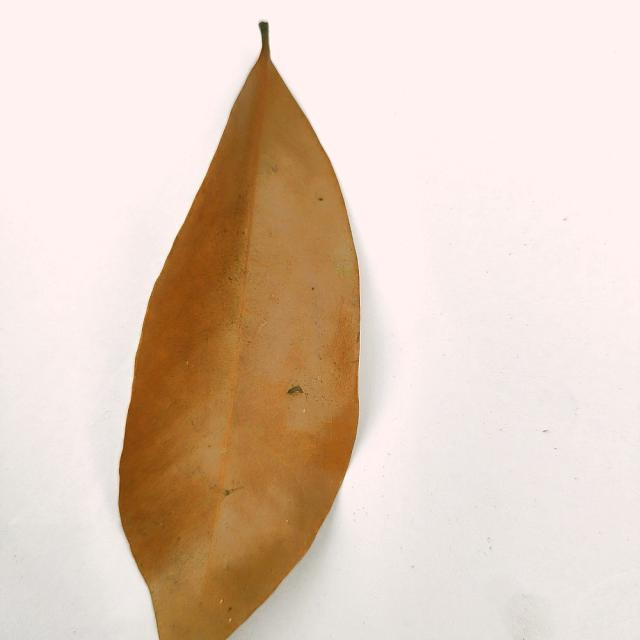Dry_Leaf-Lychee: (117, 22, 362, 639)
